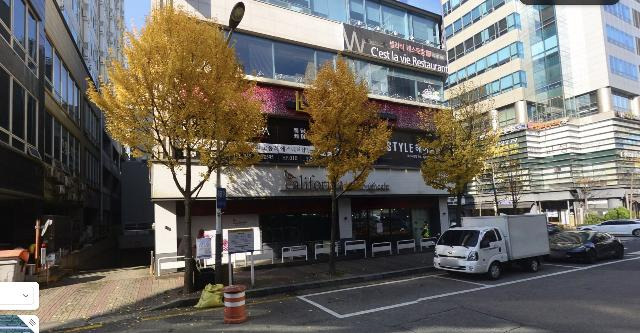ginkgo: (86, 0, 268, 296), (303, 49, 394, 277), (413, 82, 508, 235)
other: (559, 148, 611, 222)
